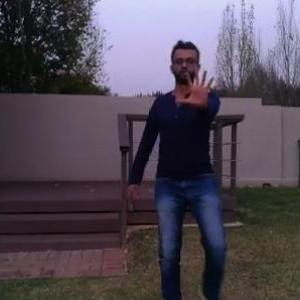follow_hand: (174, 65, 217, 107)
